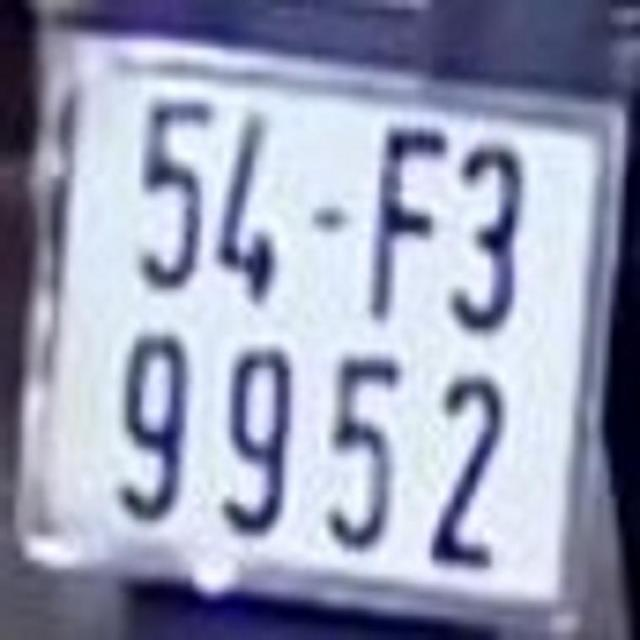2: (430, 373, 501, 564)
3: (458, 138, 517, 335)
4: (217, 107, 276, 304)
5: (135, 94, 208, 294), (324, 358, 398, 548)
9: (119, 332, 185, 519), (227, 335, 287, 532)
F: (359, 127, 446, 326)
